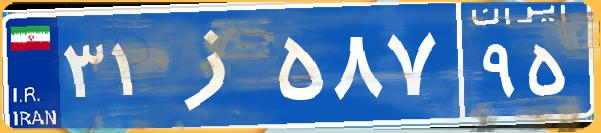1: (110, 28, 158, 105)
3: (57, 26, 110, 107)
5: (273, 28, 330, 110), (525, 38, 570, 115)
7: (385, 28, 445, 110)
8: (330, 28, 385, 110)
9: (475, 38, 525, 113)
ز: (158, 15, 273, 115)
